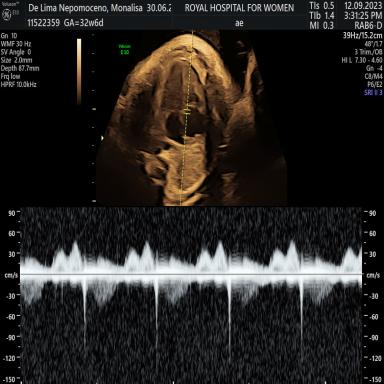Ultrasound-Waves: (27, 209, 359, 384)
